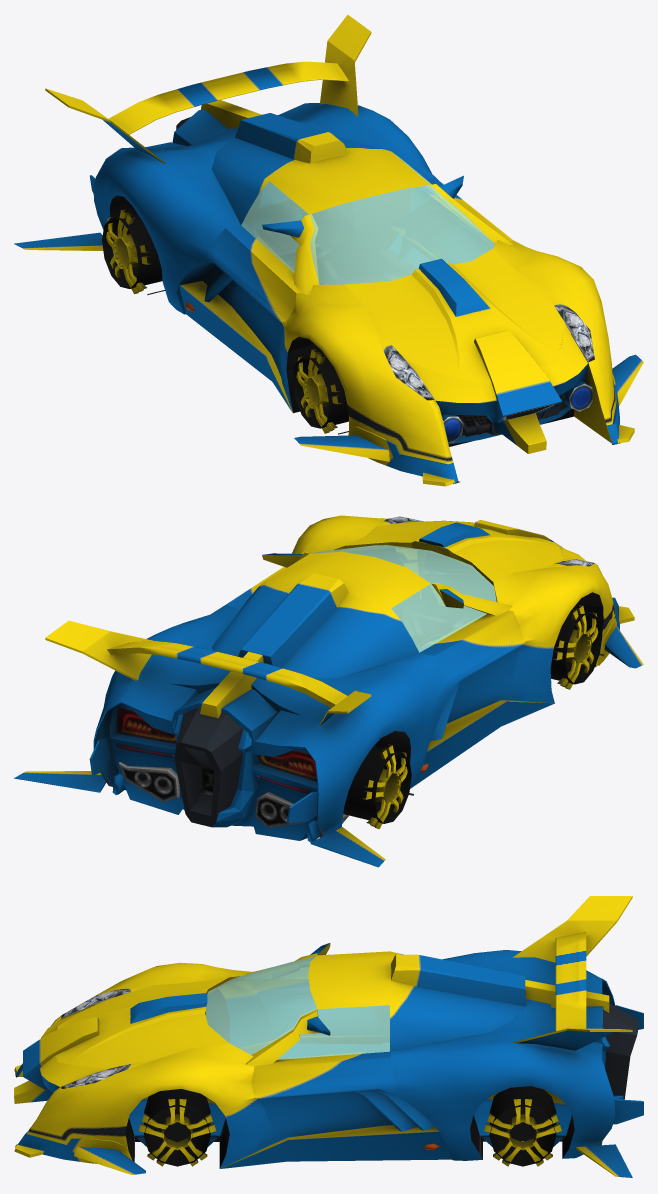
File: car2.FBX
The picture shows the model from 3 angles, top to bottom: view 1: azimuth 30°, elevation 25°; view 2: azimuth 150°, elevation 25°; view 3: azimuth 270°, elevation 25°; orthographic projection. The views are drawn at different scales.
Visible parts, largest first — view 1: car_Object1261151159, Object1261151203, Object1261151206, Object1261151207; view 2: car_Object1261151159, Object1261151203, Object1261151206, Object1261151207; view 3: car_Object1261151159, Object1261151203, Object1261151205, Object1261151204.
Boxes of the visible parts, <box> form: car_Object1261151159: <box>14,14,643,486</box>; Object1261151203: <box>241,152,494,284</box>; Object1261151206: <box>102,209,165,295</box>; Object1261151207: <box>292,349,348,434</box>; car_Object1261151159: <box>14,515,643,867</box>; Object1261151203: <box>310,545,496,652</box>; Object1261151206: <box>342,744,413,829</box>; Object1261151207: <box>550,605,604,689</box>; car_Object1261151159: <box>14,896,643,1177</box>; Object1261151203: <box>205,955,389,1059</box>; Object1261151205: <box>474,1086,571,1166</box>; Object1261151204: <box>129,1089,225,1166</box>.
Bounding box in the file's own units: 239 × 111 × 395.
